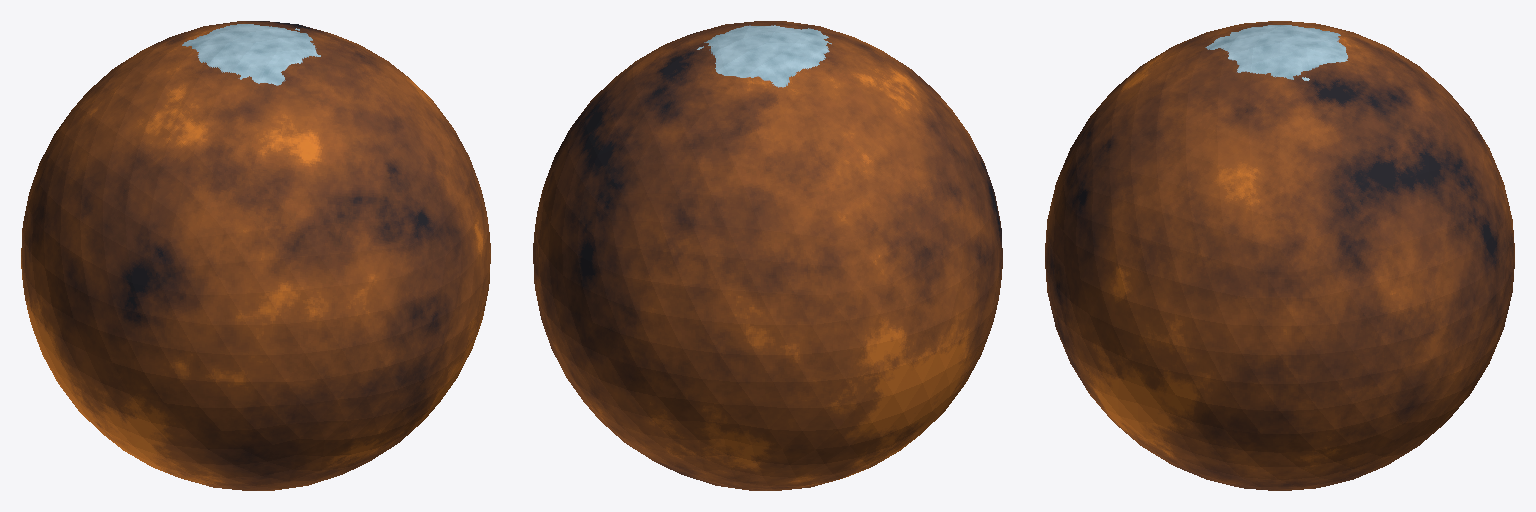
3 views of the same model, side by side, from view 1: azimuth 30°, elevation 25°; view 2: azimuth 150°, elevation 25°; view 3: azimuth 270°, elevation 25° (orthographic).
Parts seen in each view (by area): view 1: Icosphere; view 2: Icosphere; view 3: Icosphere.
Part boxes in pixels (x1,y1,x2,y2): Icosphere: (21, 21, 490, 490); Icosphere: (533, 21, 1002, 490); Icosphere: (1045, 21, 1514, 490).
Size of the model in its own units: 2 by 2 by 2.
1 materials, 1 textured.